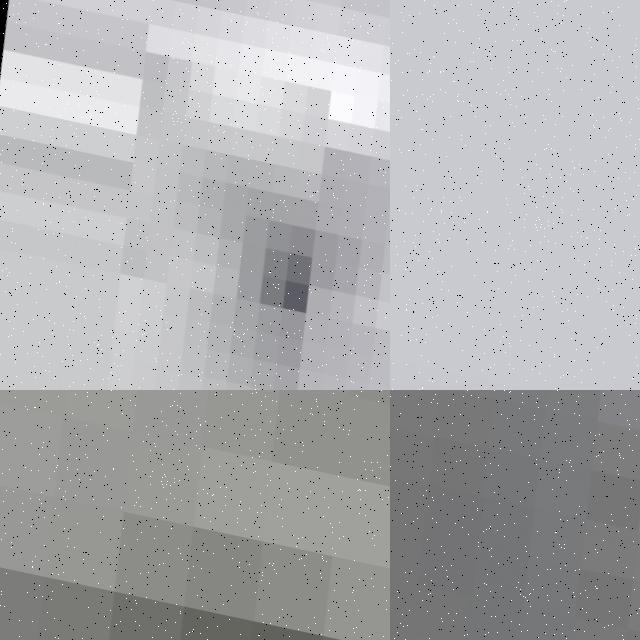0: (0, 0, 390, 390)
drone: (0, 390, 390, 640), (390, 390, 640, 640)
